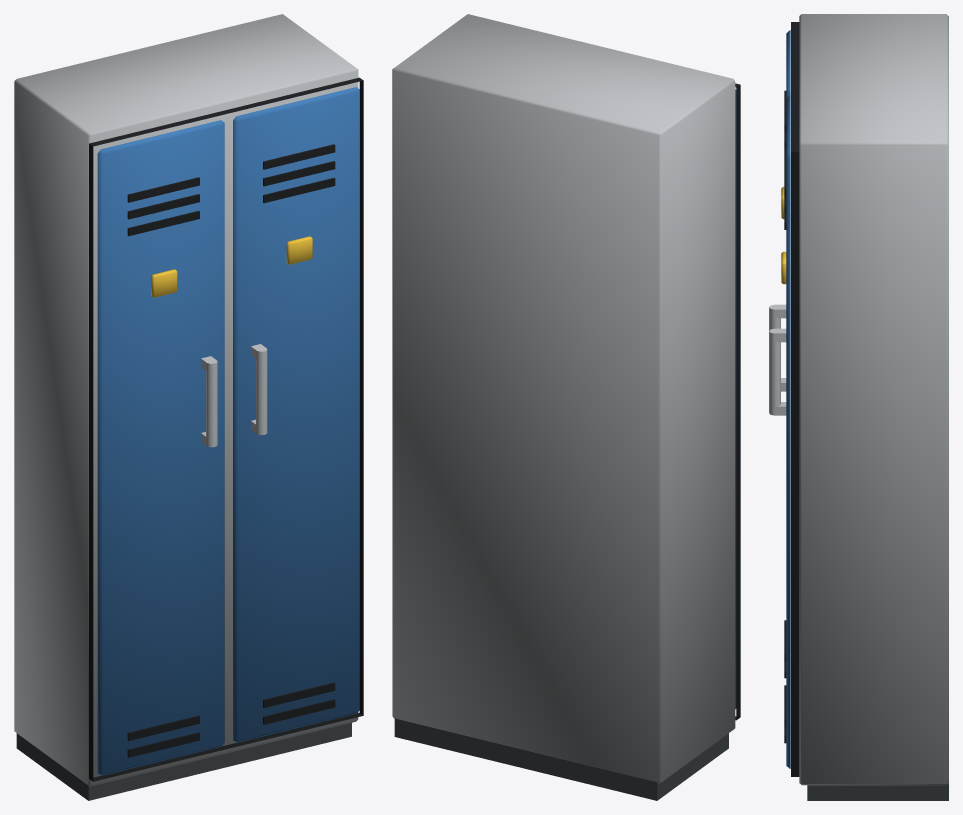
The model's file is Locker_Double_01.glb.
The picture shows the model from 3 angles, left to right: view 1: azimuth 30°, elevation 25°; view 2: azimuth 150°, elevation 25°; view 3: azimuth 270°, elevation 25°; orthographic projection.
Parts seen in each view (by area): view 1: SM_Locker_Double_01; view 2: SM_Locker_Double_01; view 3: SM_Locker_Double_01.
Boxes of the visible parts, left/top/right/bottom form: SM_Locker_Double_01: left=14, top=14, right=363, bottom=800; SM_Locker_Double_01: left=392, top=14, right=740, bottom=800; SM_Locker_Double_01: left=769, top=14, right=948, bottom=800.
Bounding box in the file's own units: 0.76 × 1.8 × 0.4445.
Materials: 1 (1 with a texture image).
